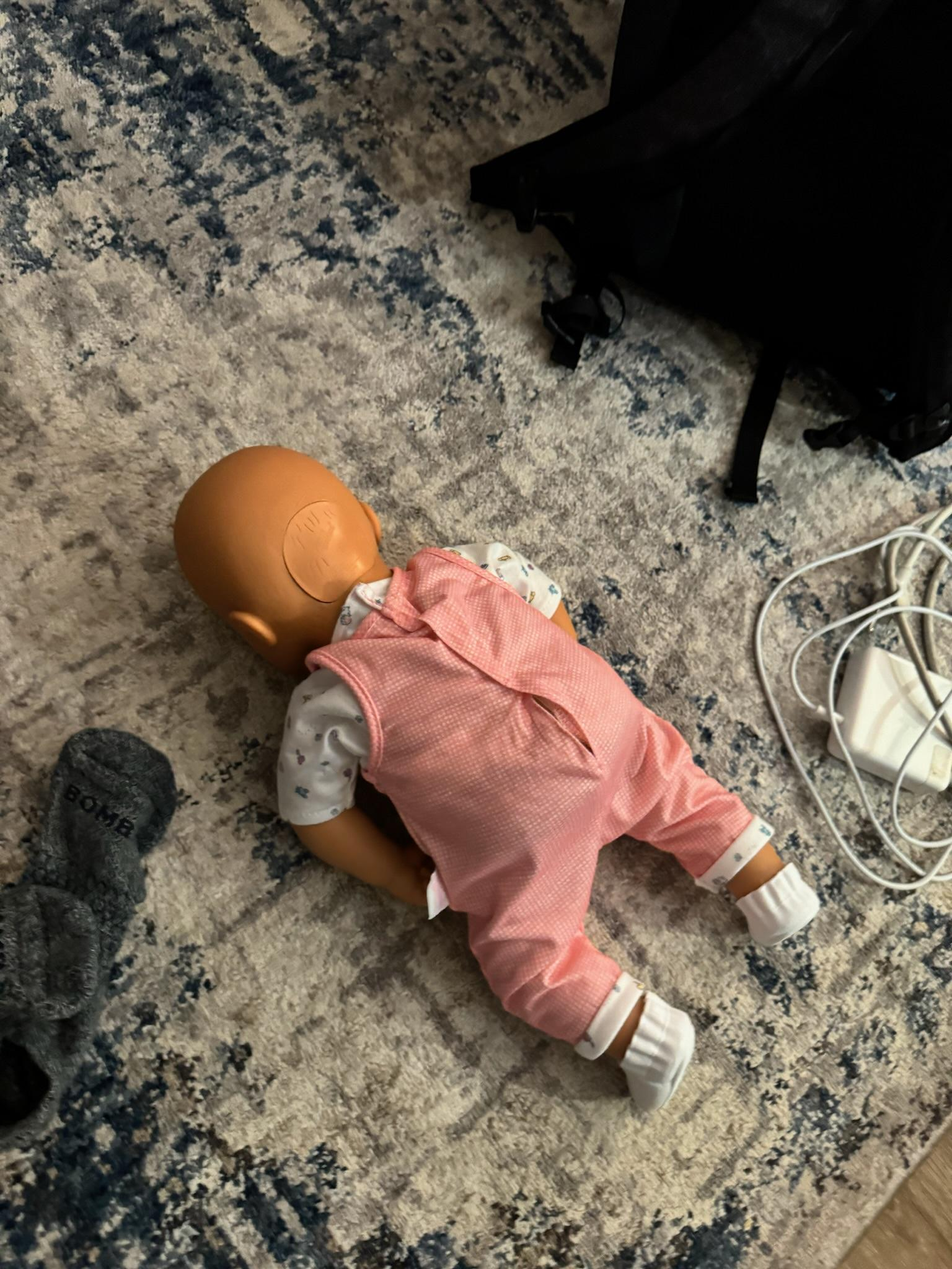baby: (169, 430, 826, 1124)
